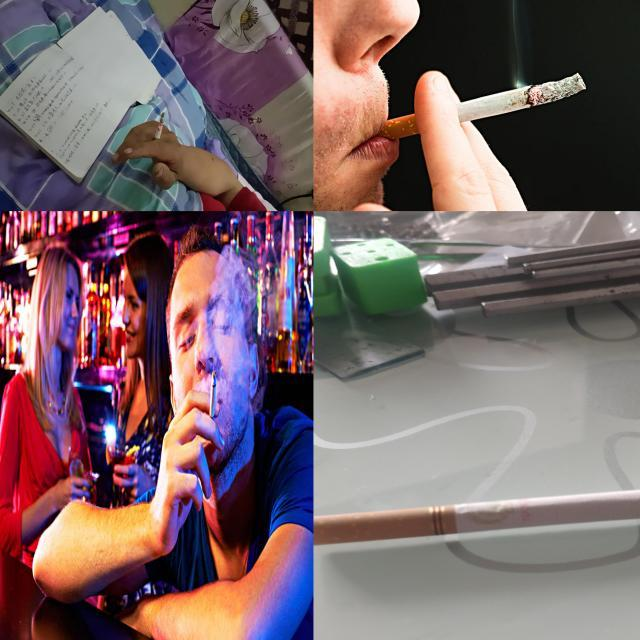cigarette: (313, 484, 640, 546), (376, 72, 588, 142), (208, 368, 216, 428), (152, 113, 165, 146)
